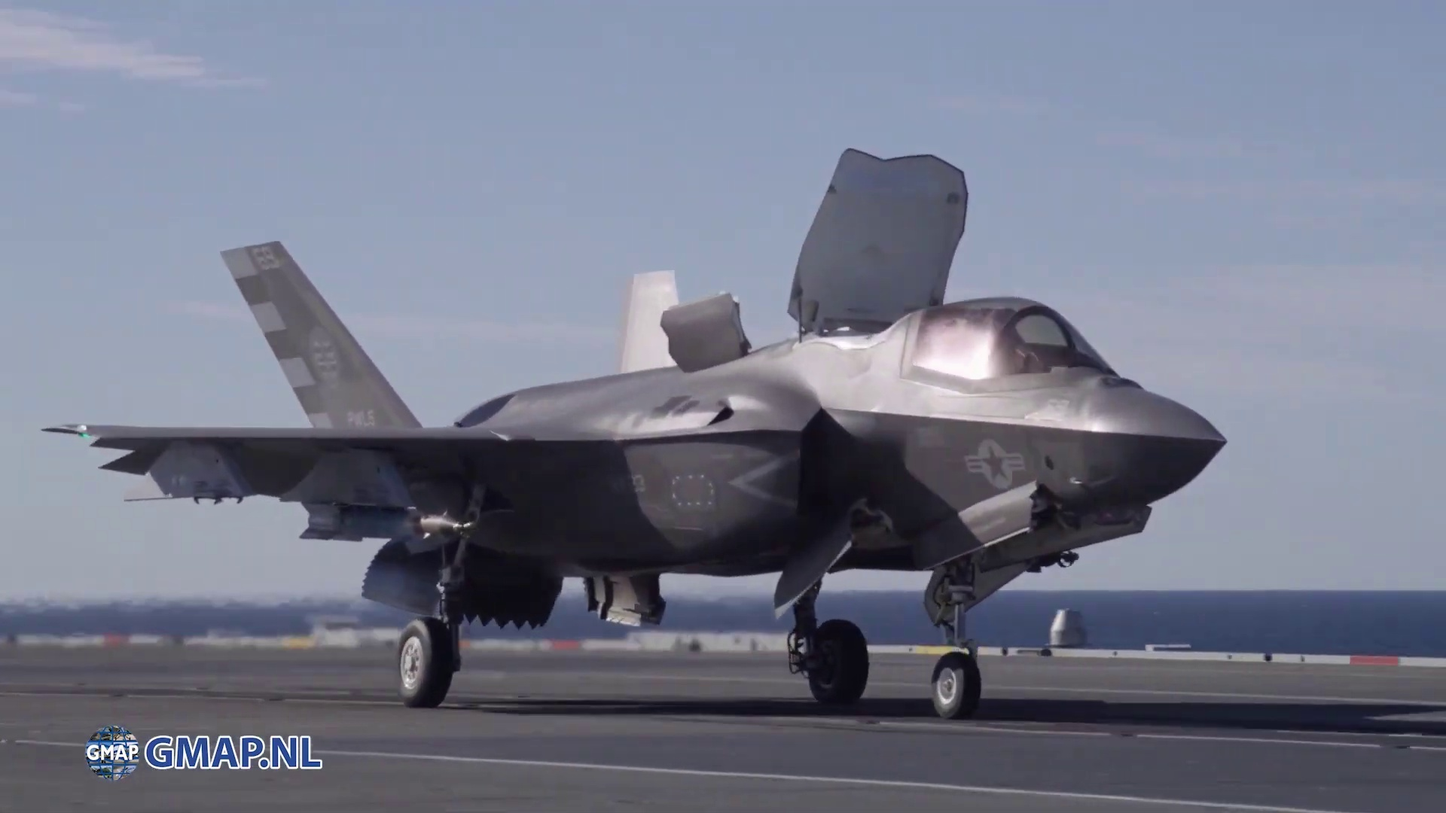F35: (32, 143, 1226, 721)
